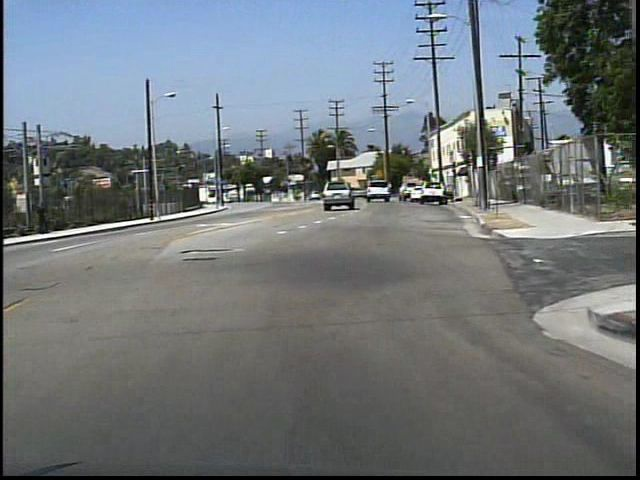person: (37, 200, 54, 237)
